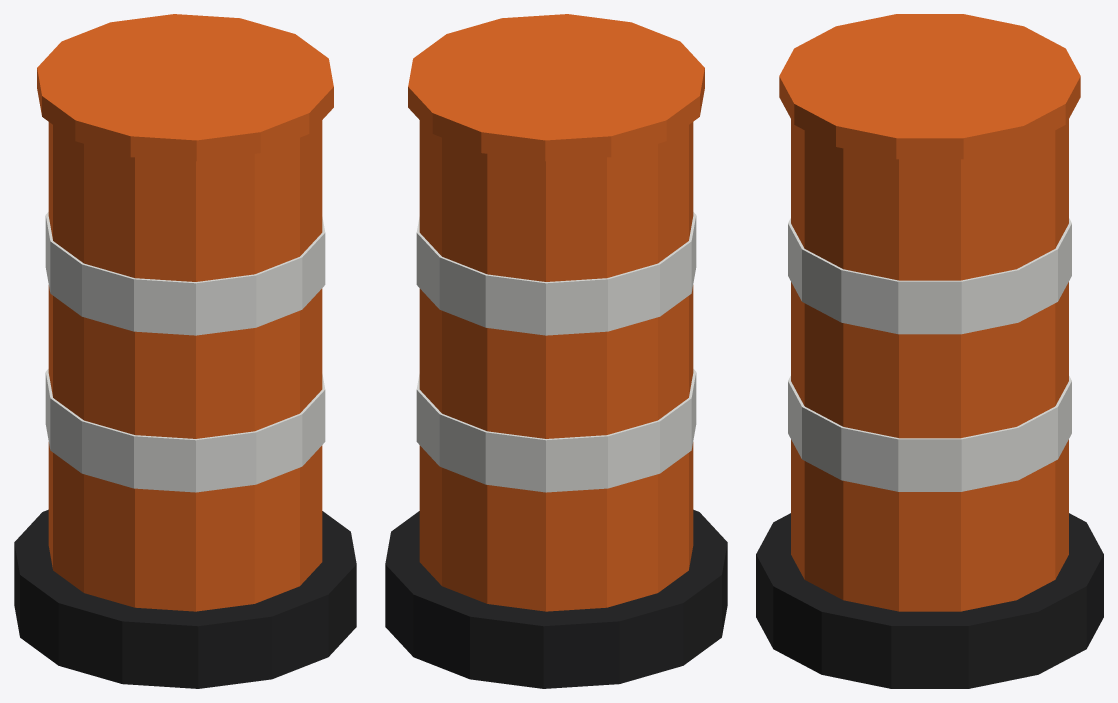
Rendered from barrel.glb.
3 views of the same model, side by side, from view 1: azimuth 30°, elevation 25°; view 2: azimuth 150°, elevation 25°; view 3: azimuth 270°, elevation 25° (orthographic).
Parts seen in each view (by area): view 1: barrel; view 2: barrel; view 3: barrel.
Part boxes in pixels (x1,y1,x2,y2): barrel: [14, 14, 356, 688]; barrel: [385, 14, 727, 688]; barrel: [756, 14, 1103, 688].
Bounding box in the file's own units: 0.585 × 1.03 × 0.6.
